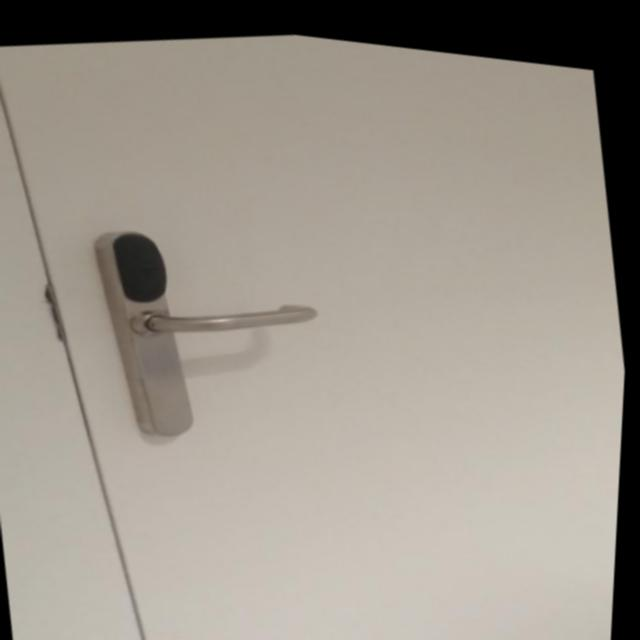door_handle: (101, 263, 334, 361)
